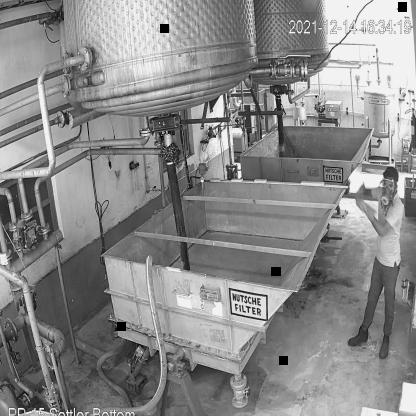goggles: (380, 175, 397, 192)
mask: (377, 184, 397, 208)
shoes: (346, 322, 370, 349), (377, 326, 394, 362)
